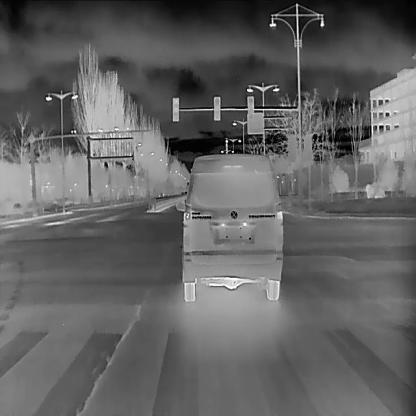car: (174, 148, 289, 300)
